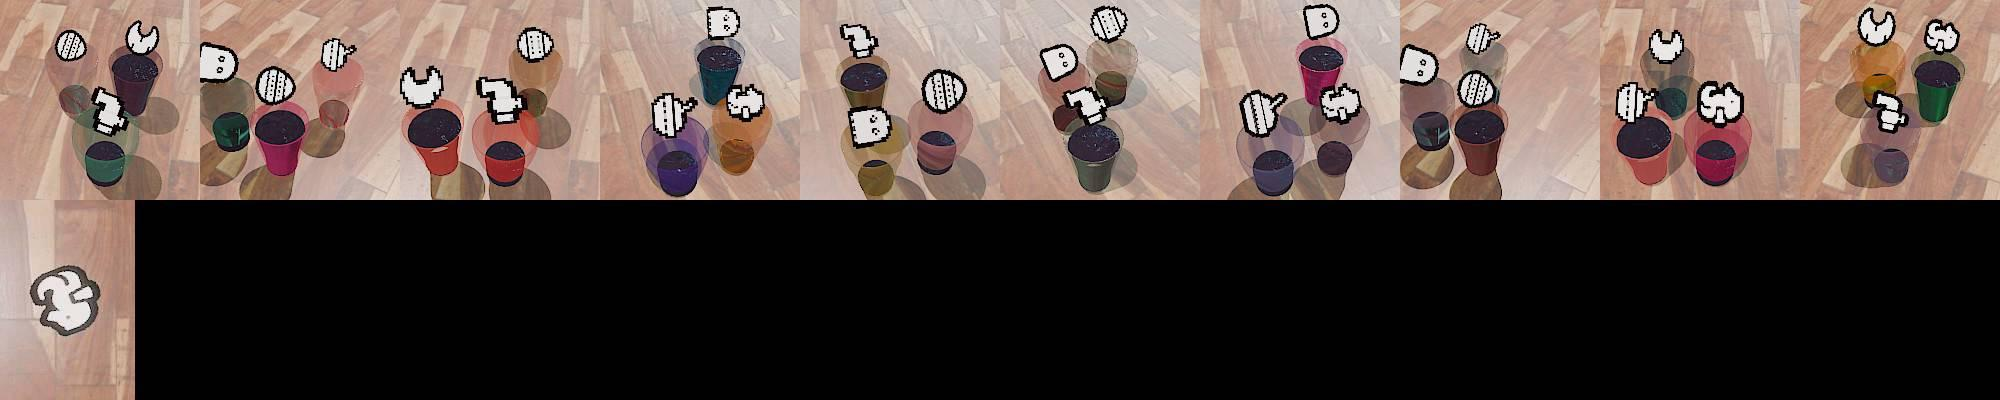icon: (23, 260, 106, 345), (476, 75, 527, 124), (1240, 88, 1287, 136), (1696, 79, 1745, 126), (649, 92, 696, 139), (399, 64, 444, 110), (922, 69, 967, 113), (91, 85, 129, 136), (847, 106, 893, 148), (1615, 79, 1657, 124), (1319, 83, 1364, 124), (1064, 85, 1108, 126), (199, 41, 239, 84), (1399, 43, 1439, 87), (1038, 42, 1079, 82), (255, 66, 296, 106), (1457, 69, 1499, 107), (1871, 89, 1908, 132), (1857, 6, 1897, 46), (724, 83, 767, 120), (1647, 27, 1685, 65), (839, 23, 879, 60), (1089, 5, 1128, 42), (1302, 4, 1339, 41), (517, 27, 555, 62), (319, 37, 356, 73), (1923, 18, 1959, 54), (1464, 20, 1500, 55), (125, 19, 158, 56), (705, 6, 740, 41), (55, 29, 88, 61)
